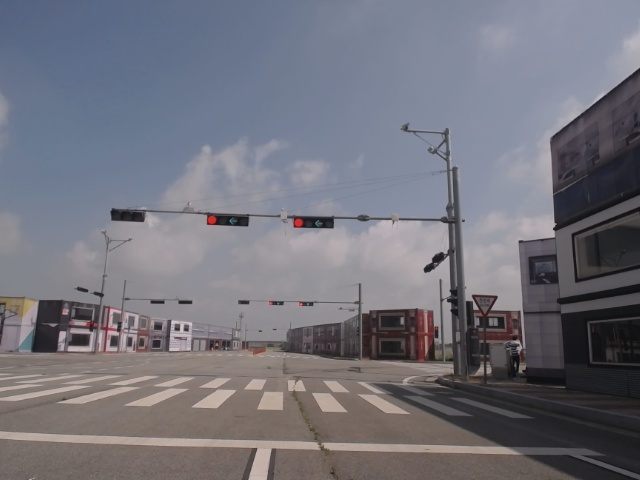left_green_4: (207, 213, 249, 227), (293, 216, 334, 229)
